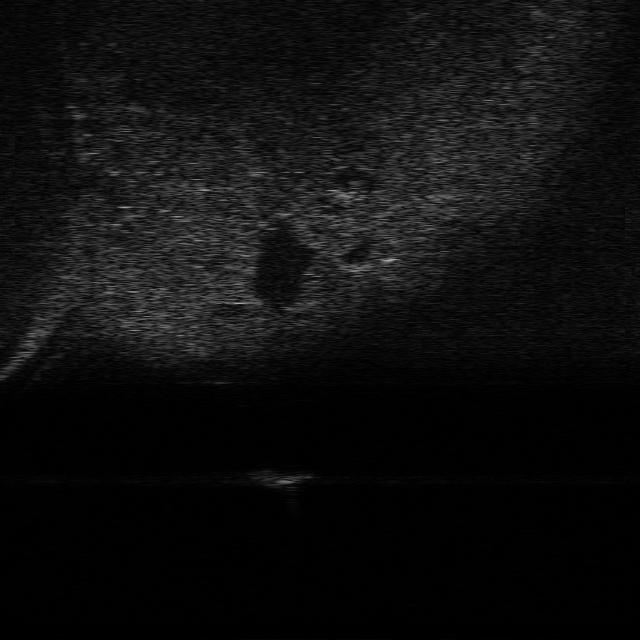cube: (244, 464, 311, 488)
